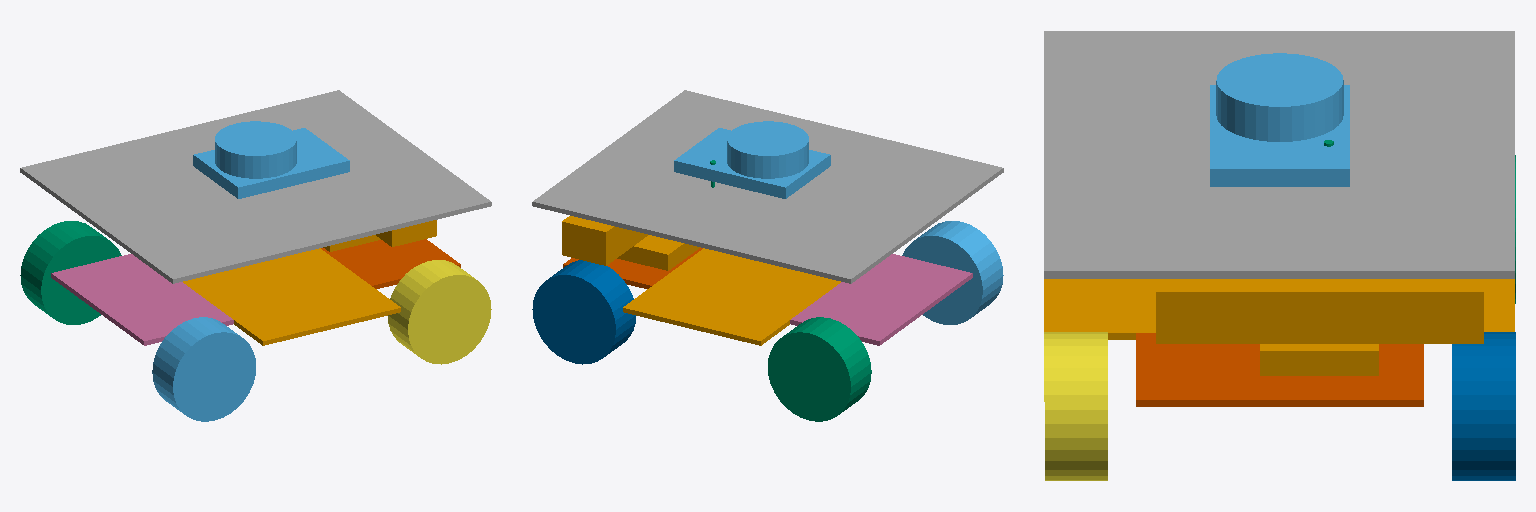
URDF robot description (LGDXRobot2):
<?xml version="1.0"?>
<robot name="LGDXRobot2" xmlns:xacro="http://ros.org/wiki/xacro">
  <link name="base_link">
  </link>
  <joint name="wheel4" type="continuous">
    <parent link="base_link"/>
    <child link="WHEEL_4_SOLID"/>
    <axis xyz="0 -0.000004 -1"/>
    <limit effort="10" velocity="10"/>
    <origin xyz="-0.1055 -0.1025 -0.0545" rpy="1.5708 0 0"/>
  </joint>
  <link name="WHEEL_4_SOLID">
    <visual>
      <origin xyz="0 0.00001 0" rpy="0 0 0"/>
      <geometry>
        <cylinder radius="0.0375" length="0.032"/>
      </geometry>
    </visual>
    <collision>
      <origin xyz="0 0.00001 0" rpy="0 0 0"/>
      <geometry>
        <cylinder radius="0.0375" length="0.032"/>
      </geometry>
    </collision>
  </link>
  <joint name="wheel3" type="continuous">
    <parent link="base_link"/>
    <child link="WHEEL_3_SOLID"/>
    <axis xyz="0 -0.000004 -1"/>
    <limit effort="10" velocity="10"/>
    <origin xyz="-0.1055 0.10251 -0.0545" rpy="1.5708 0 0"/>
  </joint>
  <link name="WHEEL_3_SOLID">
    <visual>
      <origin xyz="0 0.00001 0" rpy="0 0 0"/>
      <geometry>
        <cylinder radius="0.0375" length="0.032"/>
      </geometry>
    </visual>
    <collision>
      <origin xyz="0 0.00001 0" rpy="0 0 0"/>
      <geometry>
        <cylinder radius="0.0375" length="0.032"/>
      </geometry>
    </collision>
  </link>
  <joint name="wheel2" type="continuous">
    <parent link="base_link"/>
    <child link="WHEEL_2_SOLID"/>
    <axis xyz="0 -0.000004 -1"/>
    <limit effort="10" velocity="10"/>
    <origin xyz="0.1055 -0.10249 -0.0545" rpy="1.5708 0 0"/>
  </joint>
  <link name="WHEEL_2_SOLID">
    <visual>
      <origin xyz="0 0.00001 0" rpy="0 0 0"/>
      <geometry>
        <cylinder radius="0.0375" length="0.032"/>
      </geometry>
    </visual>
    <collision>
      <origin xyz="0 0.00001 0" rpy="0 0 0"/>
      <geometry>
        <cylinder radius="0.0375" length="0.032"/>
      </geometry>
    </collision>
  </link>
  <joint name="wheel1" type="continuous">
    <parent link="base_link"/>
    <child link="WHEEL_1_SOLID"/>
    <axis xyz="0 -0.000004 -1"/>
    <limit effort="10" velocity="10"/>
    <origin xyz="0.1055 0.10251 -0.0545" rpy="1.5708 0 0"/>
  </joint>
  <link name="WHEEL_1_SOLID">
    <visual>
      <origin xyz="0 0.00001 0" rpy="0 0 0"/>
      <geometry>
        <cylinder radius="0.0375" length="0.032"/>
      </geometry>
    </visual>
    <collision>
      <origin xyz="0 0.00001 0" rpy="0 0 0"/>
      <geometry>
        <cylinder radius="0.0375" length="0.032"/>
      </geometry>
    </collision>
  </link>
  <link name="BASE_FRONT_SOLID">
    <visual>
      <origin xyz="0 0.00001 0" rpy="0 0 0"/>
      <geometry>
        <box size="0.08 0.145 0.004"/>
      </geometry>
    </visual>
    <collision>
      <origin xyz="0 0.00001 0" rpy="0 0 0"/>
      <geometry>
        <box size="0.08 0.145 0.004"/>
      </geometry>
    </collision>
  </link>
  <joint name="base_link_BASE_FRONT_SOLID_joint" type="fixed">
    <parent link="base_link"/>
    <child link="BASE_FRONT_SOLID"/>
    <origin xyz="0.102 0.00001 -0.036" rpy="0 0 0"/>
  </joint>
  <link name="BASE_REAR_SOLID">
    <visual>
      <geometry>
        <box size="0.08 0.145 0.004"/>
      </geometry>
    </visual>
    <collision>
      <geometry>
        <box size="0.08 0.145 0.004"/>
      </geometry>
    </collision>
  </link>
  <joint name="base_link_BASE_REAR_SOLID_joint" type="fixed">
    <parent link="base_link"/>
    <child link="BASE_REAR_SOLID"/>
    <origin xyz="-0.102 0 -0.036" rpy="0 0 0"/>
  </joint>
  <link name="BASE_TOP_SOLID">
    <visual>
      <geometry>
        <box size="0.286 0.237 0.004"/>
      </geometry>
    </visual>
    <collision>
      <geometry>
        <box size="0.286 0.237 0.004"/>
      </geometry>
    </collision>
  </link>
  <joint name="base_link_BASE_TOP_SOLID_joint" type="fixed">
    <parent link="base_link"/>
    <child link="BASE_TOP_SOLID"/>
    <origin xyz="0 0 0.036" rpy="0 0 0"/>
  </joint>
  <link name="BASE_CENTRE_SOLID">
    <visual>
      <geometry>
        <box size="0.124 0.237 0.004"/>
      </geometry>
    </visual>
    <collision>
      <geometry>
        <box size="0.124 0.237 0.004"/>
      </geometry>
    </collision>
  </link>
  <joint name="base_link_BASE_CENTRE_SOLID_joint" type="fixed">
    <parent link="base_link"/>
    <child link="BASE_CENTRE_SOLID"/>
    <origin xyz="0 0 -0.036" rpy="0 0 0"/>
  </joint>
  <link name="lidar">
    <visual>
      <origin xyz="0.014 0 -0.014" rpy="1.5708 0.00001 -1.5708"/>
      <geometry>
        <box size="0.07 0.01 0.1"/>
      </geometry>
    </visual>
    <collision>
      <origin xyz="0.014 0 -0.014" rpy="1.5708 0.00001 -1.5708"/>
      <geometry>
        <box size="0.07 0.01 0.1"/>
      </geometry>
    </collision>
    <visual>
      <origin xyz="0 0 0" rpy="0 0 0"/>
      <geometry>
        <cylinder radius="0.032" length="0.021"/>
      </geometry>
    </visual>
    <collision>
      <origin xyz="0 0 0" rpy="0 0 0"/>
      <geometry>
        <cylinder radius="0.032" length="0.021"/>
      </geometry>
    </collision>
  </link>
  <joint name="base_link_lidar_joint" type="fixed">
    <parent link="base_link"/>
    <child link="lidar"/>
    <origin xyz="0 0 0.067" rpy="0 0 0"/>
  </joint>
  <link name="screw3">
    <visual>
      <origin xyz="0.01 0 0" rpy="3.141593 1.570793 3.141593"/>
      <geometry>
        <cylinder radius="0.0015" length="0.02"/>
      </geometry>
    </visual>
    <collision>
      <origin xyz="0.01 0 0" rpy="3.141593 1.570793 3.141593"/>
      <geometry>
        <cylinder radius="0.0015" length="0.02"/>
      </geometry>
    </collision>
    <visual>
      <origin xyz="-0.0015 0 0" rpy="3.141593 1.570793 3.141593"/>
      <geometry>
        <cylinder radius="0.0025" length="0.003"/>
      </geometry>
    </visual>
    <collision>
      <origin xyz="-0.0015 0 0" rpy="3.141593 1.570793 3.141593"/>
      <geometry>
        <cylinder radius="0.0025" length="0.003"/>
      </geometry>
    </collision>
  </link>
  <joint name="lidar_screw3_joint" type="fixed">
    <parent link="lidar"/>
    <child link="screw3"/>
    <origin xyz="0.035 0.0245 -0.0105" rpy="0 1.570787 0"/>
  </joint>
  <link name="screw2">
    <visual>
      <origin xyz="0.01 0 0" rpy="3.141593 1.570793 3.141593"/>
      <geometry>
        <cylinder radius="0.0015" length="0.02"/>
      </geometry>
    </visual>
    <collision>
      <origin xyz="0.01 0 0" rpy="3.141593 1.570793 3.141593"/>
      <geometry>
        <cylinder radius="0.0015" length="0.02"/>
      </geometry>
    </collision>
    <visual>
      <origin xyz="-0.0015 0 0" rpy="3.141593 1.570793 3.141593"/>
      <geometry>
        <cylinder radius="0.0025" length="0.003"/>
      </geometry>
    </visual>
    <collision>
      <origin xyz="-0.0015 0 0" rpy="3.141593 1.570793 3.141593"/>
      <geometry>
        <cylinder radius="0.0025" length="0.003"/>
      </geometry>
    </collision>
  </link>
  <joint name="lidar_screw2_joint" type="fixed">
    <parent link="lidar"/>
    <child link="screw2"/>
    <origin xyz="0.035 0.0245 -0.0105" rpy="0 1.570787 0"/>
  </joint>
  <link name="screw1">
    <visual>
      <origin xyz="0.01 0 0" rpy="3.141593 1.570793 3.141593"/>
      <geometry>
        <cylinder radius="0.0015" length="0.02"/>
      </geometry>
    </visual>
    <collision>
      <origin xyz="0.01 0 0" rpy="3.141593 1.570793 3.141593"/>
      <geometry>
        <cylinder radius="0.0015" length="0.02"/>
      </geometry>
    </collision>
    <visual>
      <origin xyz="-0.0015 0 0" rpy="3.141593 1.570793 3.141593"/>
      <geometry>
        <cylinder radius="0.0025" length="0.003"/>
      </geometry>
    </visual>
    <collision>
      <origin xyz="-0.0015 0 0" rpy="3.141593 1.570793 3.141593"/>
      <geometry>
        <cylinder radius="0.0025" length="0.003"/>
      </geometry>
    </collision>
  </link>
  <joint name="lidar_screw1_joint" type="fixed">
    <parent link="lidar"/>
    <child link="screw1"/>
    <origin xyz="0.035 0.0245 -0.0105" rpy="0 1.570787 0"/>
  </joint>
  <link name="screw0">
    <visual>
      <origin xyz="0.01 0 0" rpy="3.141593 1.570793 3.141593"/>
      <geometry>
        <cylinder radius="0.0015" length="0.02"/>
      </geometry>
    </visual>
    <collision>
      <origin xyz="0.01 0 0" rpy="3.141593 1.570793 3.141593"/>
      <geometry>
        <cylinder radius="0.0015" length="0.02"/>
      </geometry>
    </collision>
    <visual>
      <origin xyz="-0.0015 0 0" rpy="3.141593 1.570793 3.141593"/>
      <geometry>
        <cylinder radius="0.0025" length="0.003"/>
      </geometry>
    </visual>
    <collision>
      <origin xyz="-0.0015 0 0" rpy="3.141593 1.570793 3.141593"/>
      <geometry>
        <cylinder radius="0.0025" length="0.003"/>
      </geometry>
    </collision>
  </link>
  <joint name="lidar_screw0_joint" type="fixed">
    <parent link="lidar"/>
    <child link="screw0"/>
    <origin xyz="0.035 0.0245 -0.0105" rpy="0 1.570787 0"/>
  </joint>
  <joint name="lidar_secondary_motor" type="continuous">
    <parent link="lidar"/>
    <child link="solid"/>
    <axis xyz="0 -0.000004 1"/>
    <limit effort="10" velocity="150"/>
    <origin xyz="-0.046 0.01 -0.01" rpy="-0.000014 0.000005 3.141587"/>
  </joint>
  <link name="solid">
  </link>
  <joint name="lidar_main_motor" type="continuous">
    <parent link="lidar"/>
    <child link="lower"/>
    <axis xyz="0 -0.000004 1"/>
    <limit effort="10" velocity="40"/>
    <origin xyz="-0.046 0.02 -0.01" rpy="-0.000014 0.000005 3.141587"/>
  </joint>
  <link name="lower">
  </link>
  <link name="camera">
    <visual>
      <origin xyz="0.006 0.01 0.034" rpy="0 0 0"/>
      <geometry>
        <box size="0.04 0.165 0.029"/>
      </geometry>
    </visual>
    <collision>
      <origin xyz="0.006 0.01 0.034" rpy="0 0 0"/>
      <geometry>
        <box size="0.04 0.165 0.029"/>
      </geometry>
    </collision>
    <visual>
      <origin xyz="-0.009 0.01 0.007" rpy="0 0 0"/>
      <geometry>
        <box size="0.061 0.06 0.014"/>
      </geometry>
    </visual>
    <collision>
      <origin xyz="-0.009 0.01 0.007" rpy="0 0 0"/>
      <geometry>
        <box size="0.061 0.06 0.014"/>
      </geometry>
    </collision>
  </link>
  <joint name="base_link_camera_joint" type="fixed">
    <parent link="base_link"/>
    <child link="camera"/>
    <origin xyz="0.1 0.01 -0.03" rpy="0 0 0"/>
  </joint>
  <link name="camera depth">
  </link>
  <joint name="camera_camera depth_joint" type="fixed">
    <parent link="camera"/>
    <child link="camera depth"/>
    <origin xyz="0.027 0.037 0.034" rpy="0 0 0"/>
  </joint>
  <link name="camera rgb">
  </link>
  <joint name="camera_camera rgb_joint" type="fixed">
    <parent link="camera"/>
    <child link="camera rgb"/>
    <origin xyz="0.027 0.011 0.034" rpy="-1.570796 0 -1.570796"/>
  </joint>
</robot>

--- What the picture shows (computed from the rendered views, not written in the file) ---
3 views of the same robot in one strip: view 1: azimuth 30°, elevation 25°; view 2: azimuth 150°, elevation 25°; view 3: azimuth 270°, elevation 25° (orthographic).
Robot: LGDXRobot2 — 19 links, 18 joints (6 continuous, 12 fixed); root link base_link; default pose: all joints at 0.
Links seen in each view (by area): view 1: BASE_TOP_SOLID, BASE_CENTRE_SOLID, WHEEL_4_SOLID, WHEEL_2_SOLID, lidar, BASE_REAR_SOLID, WHEEL_3_SOLID, BASE_FRONT_SOLID, camera; view 2: BASE_TOP_SOLID, BASE_CENTRE_SOLID, WHEEL_3_SOLID, WHEEL_1_SOLID, BASE_REAR_SOLID, lidar, WHEEL_4_SOLID, camera, BASE_FRONT_SOLID; view 3: BASE_TOP_SOLID, camera, lidar, BASE_FRONT_SOLID, WHEEL_2_SOLID, WHEEL_1_SOLID, BASE_CENTRE_SOLID.
Boxes of the visible links, bbox=[...] form: BASE_TOP_SOLID: bbox=[20, 90, 491, 283]; BASE_CENTRE_SOLID: bbox=[183, 248, 400, 345]; WHEEL_4_SOLID: bbox=[152, 317, 255, 421]; WHEEL_2_SOLID: bbox=[388, 260, 491, 364]; lidar: bbox=[193, 121, 349, 198]; BASE_REAR_SOLID: bbox=[51, 254, 233, 345]; WHEEL_3_SOLID: bbox=[20, 221, 121, 324]; BASE_FRONT_SOLID: bbox=[321, 239, 460, 288]; camera: bbox=[323, 220, 436, 251]; BASE_TOP_SOLID: bbox=[532, 90, 1003, 283]; BASE_CENTRE_SOLID: bbox=[623, 248, 840, 345]; WHEEL_3_SOLID: bbox=[768, 317, 871, 421]; WHEEL_1_SOLID: bbox=[532, 260, 635, 364]; BASE_REAR_SOLID: bbox=[790, 254, 972, 345]; lidar: bbox=[674, 121, 830, 198]; WHEEL_4_SOLID: bbox=[902, 221, 1003, 324]; camera: bbox=[562, 216, 700, 270]; BASE_FRONT_SOLID: bbox=[563, 248, 702, 288]; BASE_TOP_SOLID: bbox=[1044, 31, 1514, 278]; camera: bbox=[1156, 279, 1483, 375]; lidar: bbox=[1210, 53, 1349, 186]; BASE_FRONT_SOLID: bbox=[1136, 333, 1423, 406]; WHEEL_2_SOLID: bbox=[1044, 332, 1107, 480]; WHEEL_1_SOLID: bbox=[1452, 332, 1515, 480]; BASE_CENTRE_SOLID: bbox=[1044, 279, 1514, 339].
Bounding box of the posed robot: 0.286 × 0.237 × 0.1695 m (x, y, z).
Geometry: primitives only (box / cylinder / sphere), no mesh files.